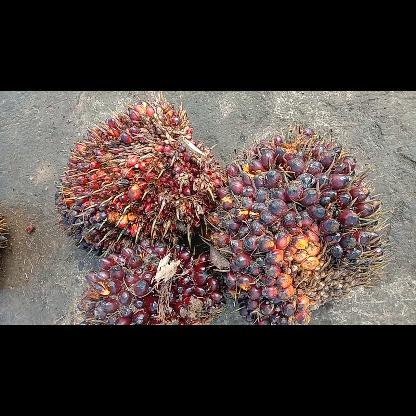Kurang masak: (200, 127, 382, 323), (76, 238, 224, 324)
TBS masak: (53, 100, 221, 250)
